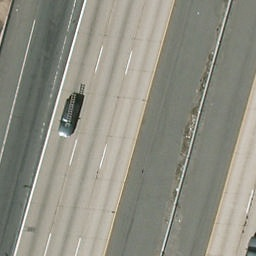car: (59, 101, 79, 139)
